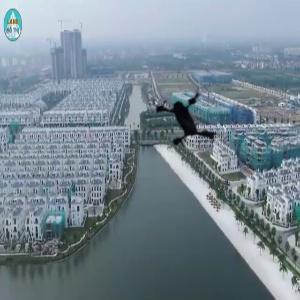drone: (142, 65, 242, 165)
